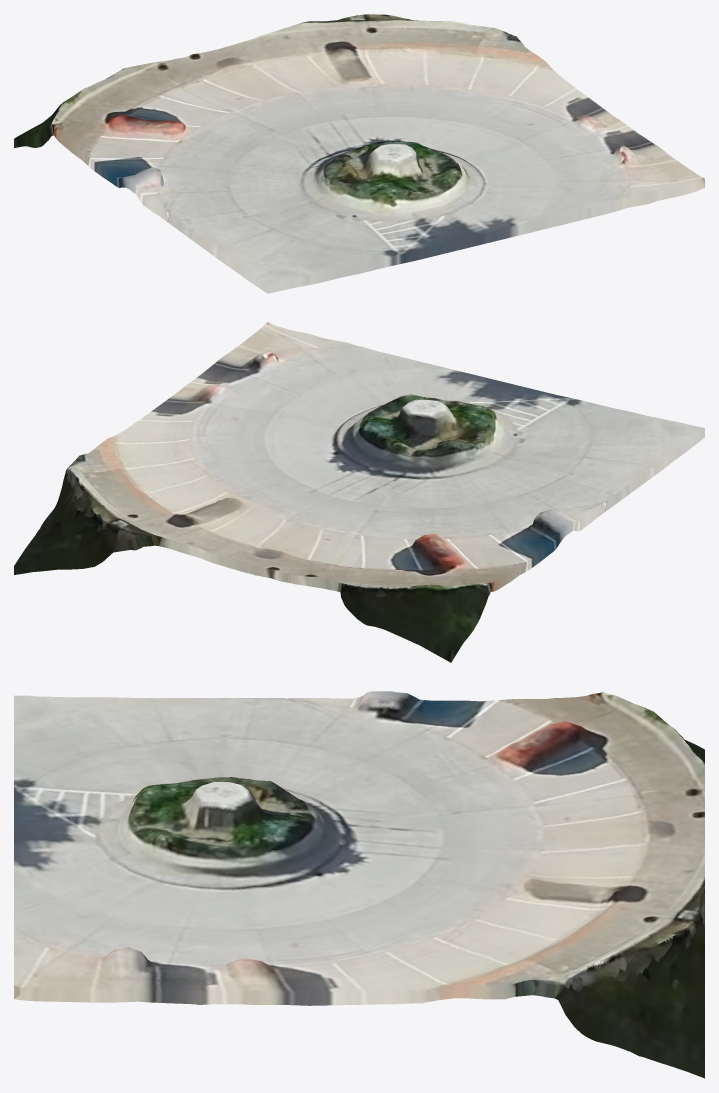
File: z20-167754-405193-h0-yup-uvflip-v3-world.glb
3 views of the same model, one above another, from view 1: azimuth 30°, elevation 25°; view 2: azimuth 150°, elevation 25°; view 3: azimuth 270°, elevation 25° (orthographic). The views are drawn at different scales.
Size of the model in its own units: 30.16 by 6.32 by 30.32.
Materials: 1 (1 with a texture image).
